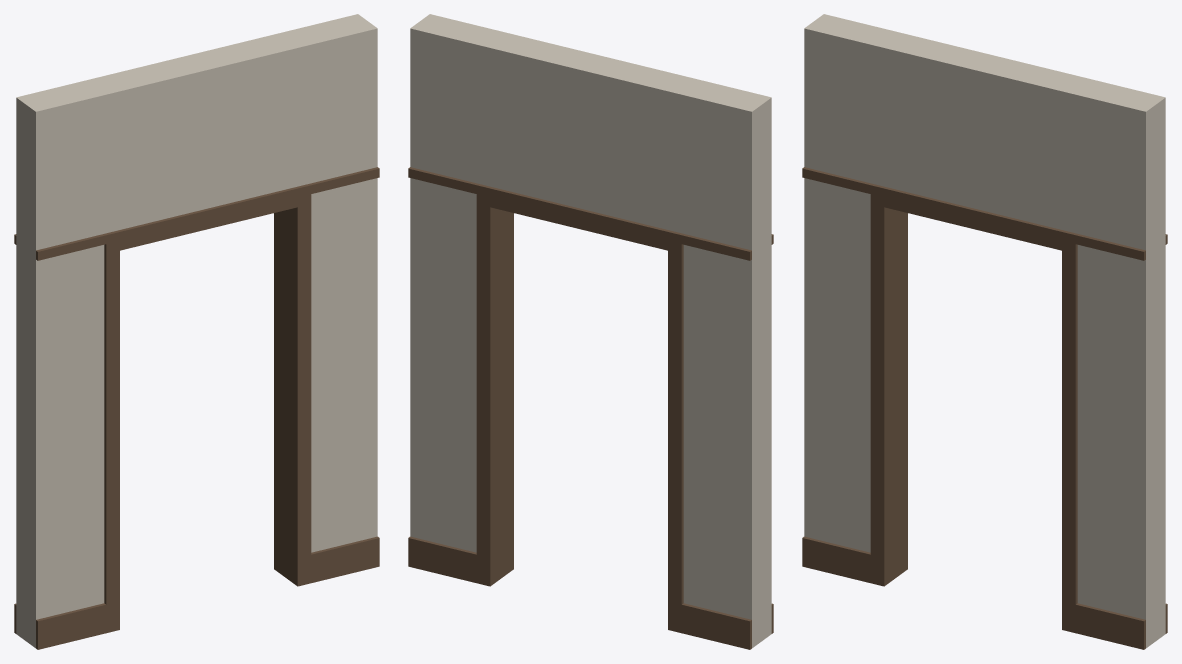
The model's file is Doorway.glb.
3 views of the same model, side by side, from view 1: azimuth 30°, elevation 25°; view 2: azimuth 150°, elevation 25°; view 3: azimuth 330°, elevation 25° (orthographic).
Visible parts, largest first — view 1: Doorway; view 2: Doorway; view 3: Doorway.
Boxes of the visible parts, left/top/right/bottom form: Doorway: left=14, top=14, right=379, bottom=649; Doorway: left=408, top=14, right=773, bottom=649; Doorway: left=802, top=14, right=1167, bottom=649.
Bounding box in the file's own units: 2 × 3 × 0.24.
